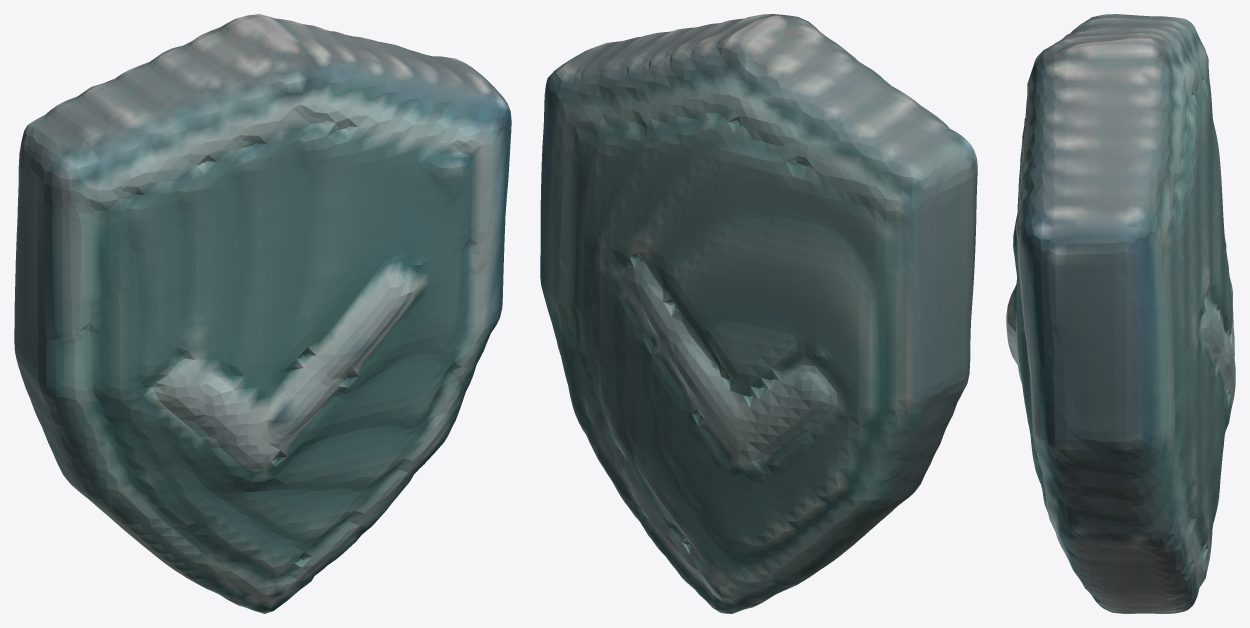
The model's file is wardr-triposr.glb.
3 views of the same model, side by side, from view 1: azimuth 30°, elevation 25°; view 2: azimuth 150°, elevation 25°; view 3: azimuth 270°, elevation 25° (orthographic). The views are drawn at different scales.
Parts seen in each view (by area): view 1: geometry_0; view 2: geometry_0; view 3: geometry_0.
Boxes of the visible parts, bbox=[...] form: geometry_0: bbox=[14, 14, 511, 613]; geometry_0: bbox=[540, 14, 977, 613]; geometry_0: bbox=[1006, 14, 1235, 613].
Size of the model in its own units: 0.7414 by 0.942 by 0.3433.
